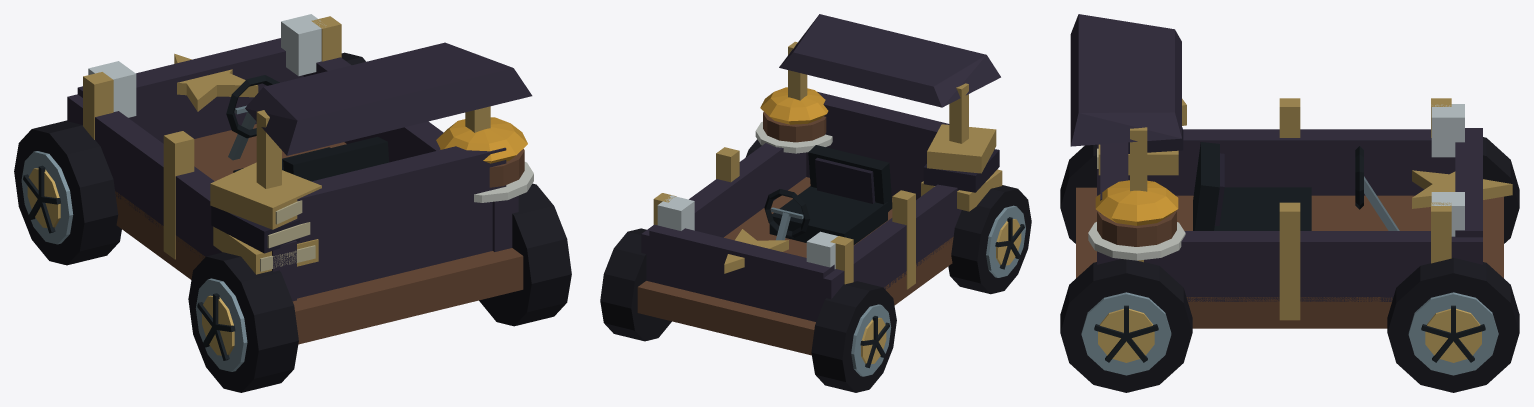
Rendered from kart.glb.
3 views of the same model, side by side, from view 1: azimuth 30°, elevation 25°; view 2: azimuth 150°, elevation 25°; view 3: azimuth 270°, elevation 25° (orthographic). The views are drawn at different scales.
Parts seen in each view (by area): view 1: identity-carriage-carriage-timber-coach, wheel-rear-left, wheel-front-left, identity-carriage-motif-books, wheel-rear-right, identity-carriage-driver-cockpit, identity-carriage-motif-food, identity-carriage-motif-star; view 2: identity-carriage-carriage-timber-coach, identity-carriage-driver-cockpit, wheel-front-left, wheel-rear-left, identity-carriage-motif-books, wheel-front-right, identity-carriage-motif-food, identity-carriage-motif-star; view 3: identity-carriage-carriage-timber-coach, wheel-front-right, wheel-rear-right, identity-carriage-driver-cockpit, identity-carriage-motif-food, wheel-rear-left, wheel-front-left, identity-carriage-motif-star, identity-carriage-motif-books.
Boxes of the visible parts, <box> form: identity-carriage-carriage-timber-coach: <box>67,14,532,344</box>; wheel-rear-left: <box>188,252,298,392</box>; wheel-front-left: <box>14,120,121,265</box>; identity-carriage-motif-books: <box>210,162,321,274</box>; wheel-rear-right: <box>479,183,571,326</box>; identity-carriage-driver-cockpit: <box>226,75,388,181</box>; identity-carriage-motif-food: <box>436,117,533,202</box>; identity-carriage-motif-star: <box>174,53,258,111</box>; identity-carriage-carriage-timber-coach: <box>637,14,1000,355</box>; identity-carriage-driver-cockpit: <box>764,145,892,244</box>; wheel-front-left: <box>811,281,896,392</box>; wheel-rear-left: <box>948,185,1031,294</box>; identity-carriage-motif-books: <box>921,124,1002,211</box>; wheel-front-right: <box>600,228,671,341</box>; identity-carriage-motif-food: <box>755,87,832,153</box>; identity-carriage-motif-star: <box>724,229,788,273</box>; identity-carriage-carriage-timber-coach: <box>1070,14,1503,328</box>; wheel-front-right: <box>1387,257,1519,392</box>; wheel-rear-right: <box>1060,259,1192,392</box>; identity-carriage-driver-cockpit: <box>1193,142,1399,230</box>; identity-carriage-motif-food: <box>1088,180,1185,260</box>; wheel-rear-left: <box>1060,144,1096,243</box>; wheel-front-left: <box>1483,137,1519,243</box>; identity-carriage-motif-star: <box>1412,170,1512,208</box>; identity-carriage-motif-books: <box>1097,98,1186,175</box>.
Size of the model in its own units: 2.07 by 1.63 by 2.64.
